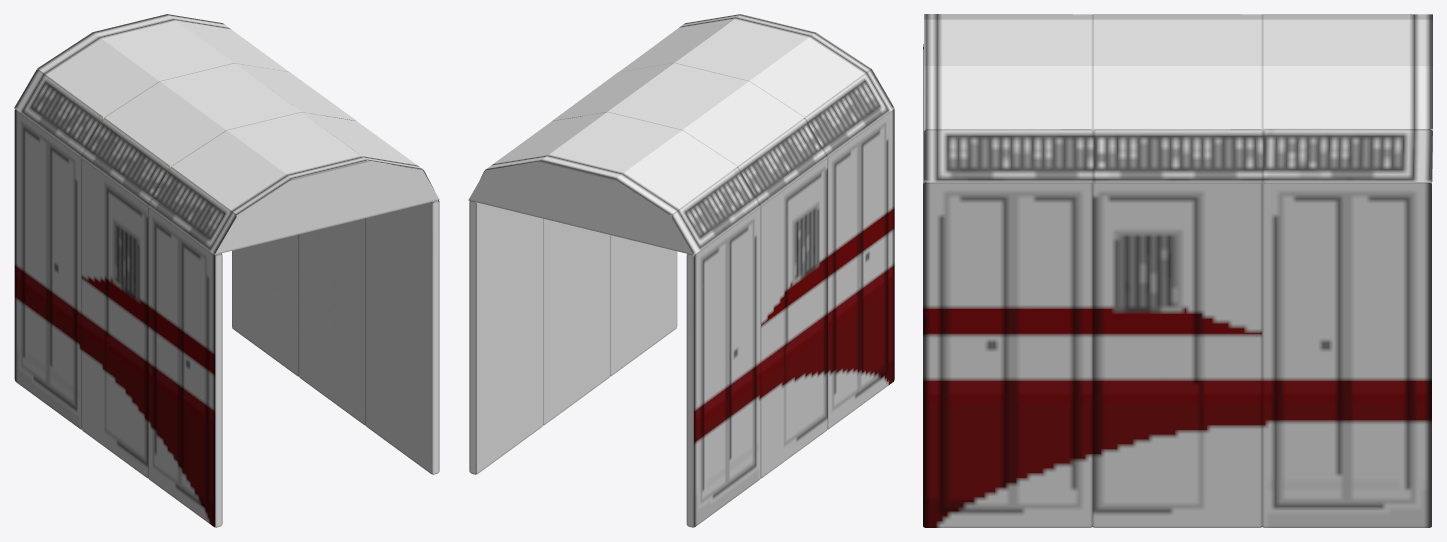
The model's file is df7g_enclosure_b.obj.
3 renders of one model, left to right at view 1: azimuth 30°, elevation 25°; view 2: azimuth 150°, elevation 25°; view 3: azimuth 270°, elevation 25°, orthographic. The views are drawn at different scales.
Visible parts, largest first — view 1: df7g_enclosure_b; view 2: df7g_enclosure_b; view 3: df7g_enclosure_b.
Part boxes in pixels (<box>): df7g_enclosure_b: <box>14,14,439,527</box>; df7g_enclosure_b: <box>468,14,894,527</box>; df7g_enclosure_b: <box>923,14,1432,527</box>.
Bounding box in the file's own units: 1.95 × 2.72 × 3.01.
